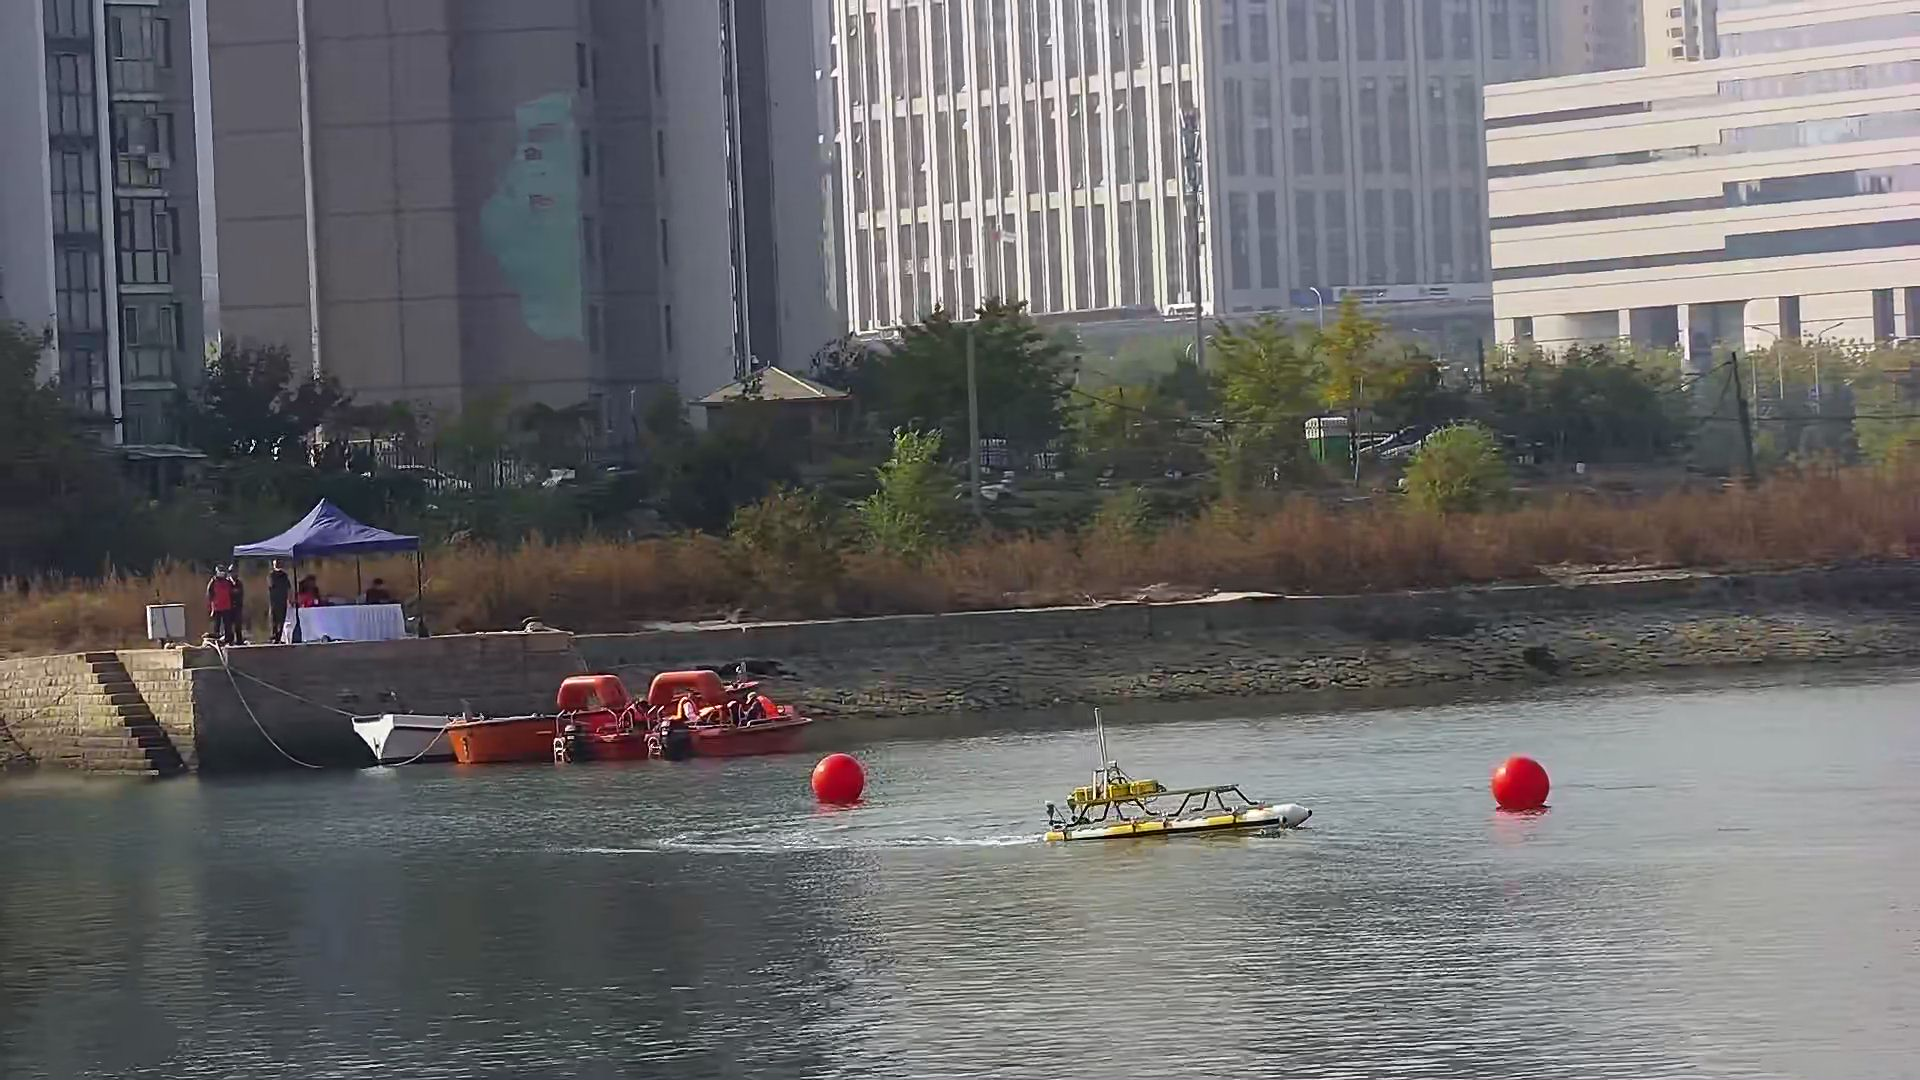ball: (1480, 750, 1557, 820), (810, 753, 866, 808)
boat: (559, 665, 803, 756), (1033, 771, 1313, 841), (450, 669, 634, 760), (349, 708, 473, 761)
